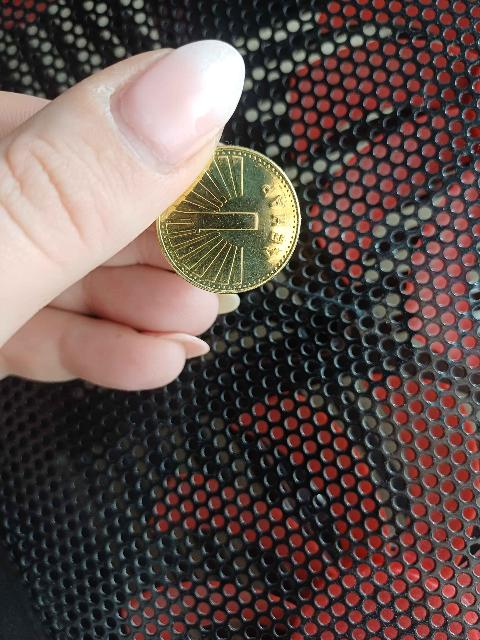1_coin: (157, 146, 299, 292)
